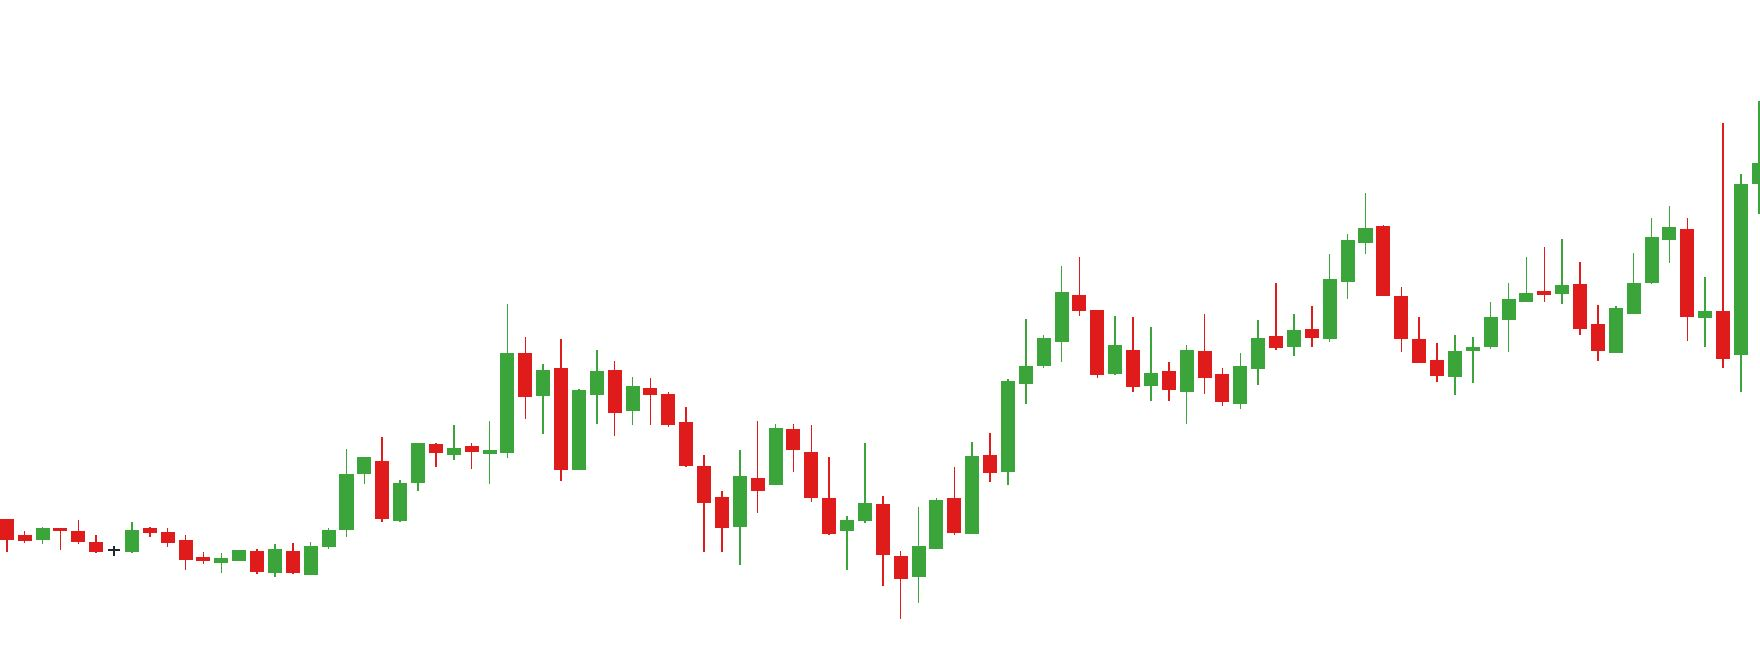buy: (714, 455, 855, 580)
